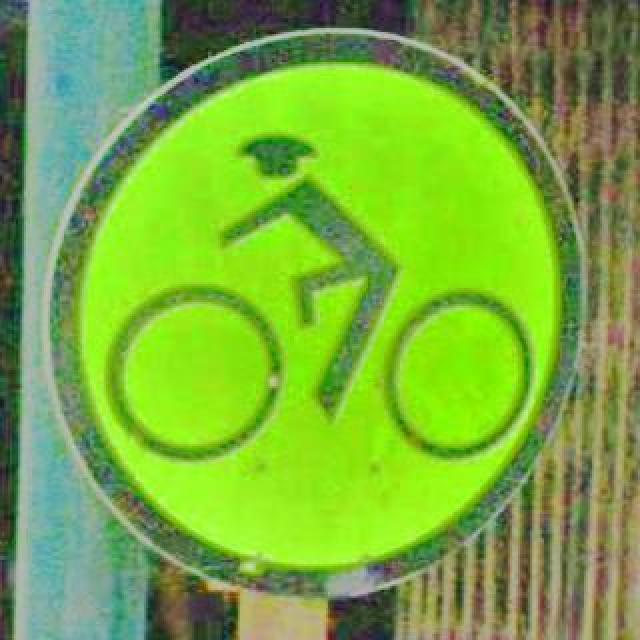bike lane: (42, 28, 584, 600)
